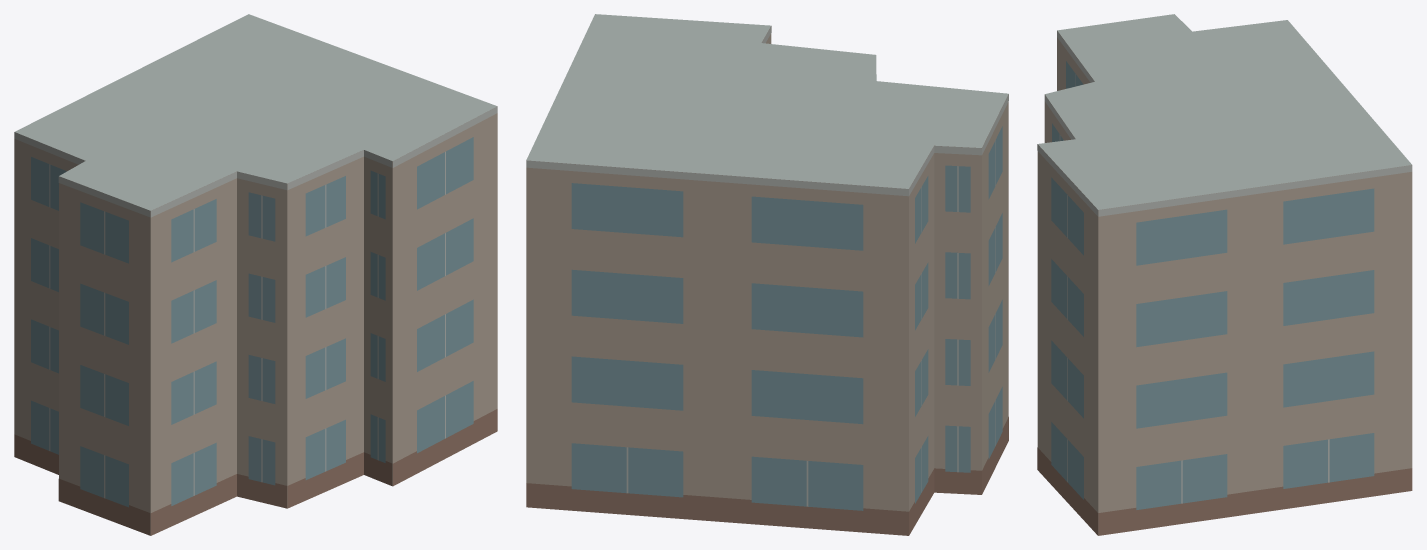
Rendered from survey-upis-32961596.glb.
The picture shows the model from 3 angles, left to right: view 1: azimuth 30°, elevation 25°; view 2: azimuth 150°, elevation 25°; view 3: azimuth 270°, elevation 25°; orthographic projection. The views are drawn at different scales.
Visible parts, largest first — view 1: survey-upis-32961596.tmp; view 2: survey-upis-32961596.tmp; view 3: survey-upis-32961596.tmp.
Part boxes in pixels (bbox=[...]): survey-upis-32961596.tmp: bbox=[14, 14, 497, 535]; survey-upis-32961596.tmp: bbox=[526, 14, 1008, 535]; survey-upis-32961596.tmp: bbox=[1037, 14, 1412, 535].
Bounding box in the file's own units: 15.1 × 11.7 × 12.21.
